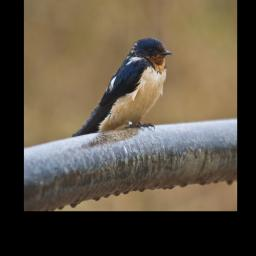Swallow: (72, 37, 174, 138)
